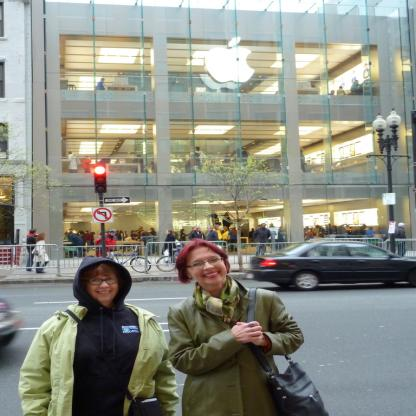Car: (243, 242, 416, 294), (1, 299, 27, 352)
